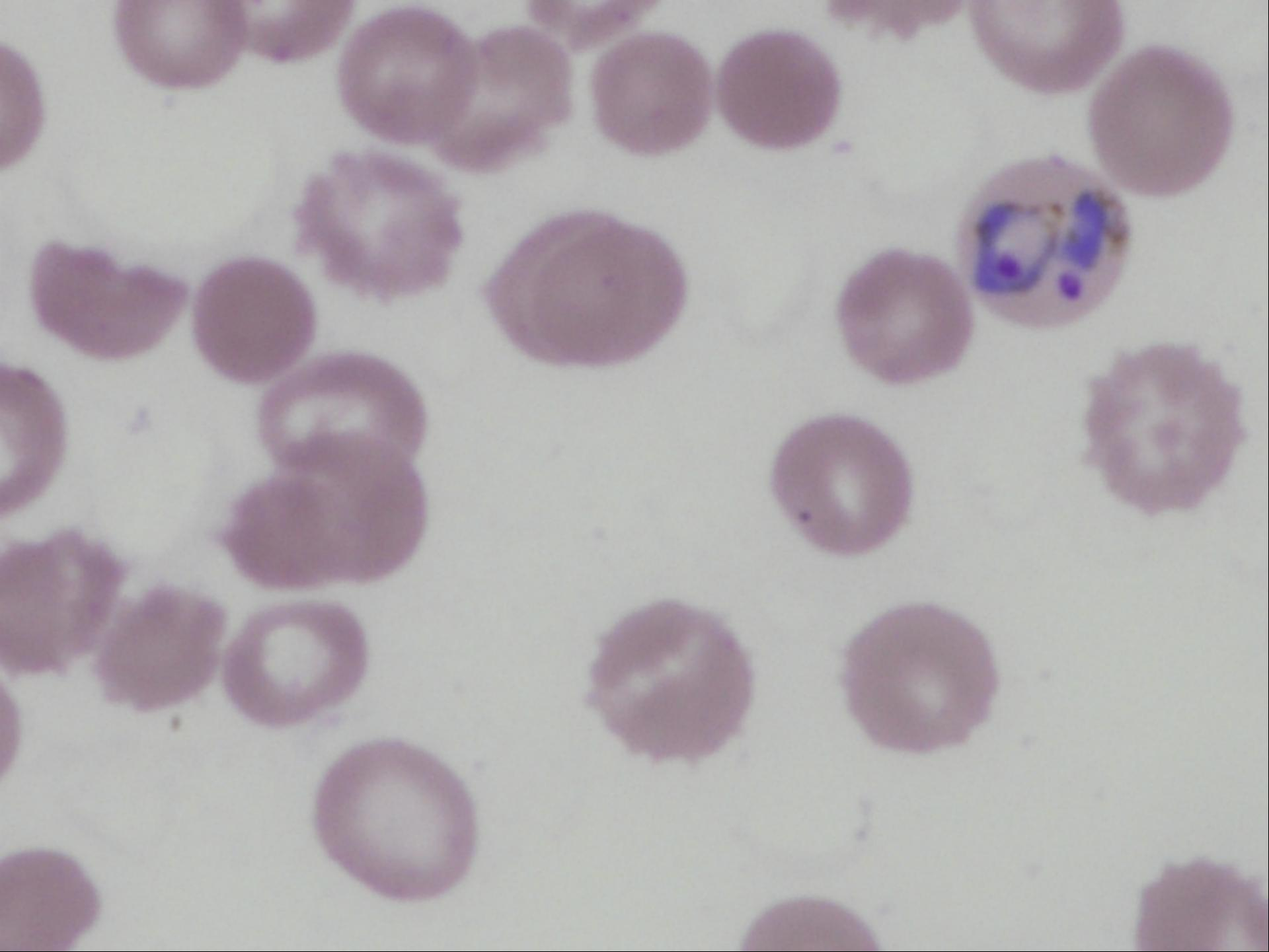Infected: (962, 158, 1132, 330)
Uninfected: (225, 433, 426, 589), (490, 211, 685, 367), (1084, 346, 1244, 516), (586, 602, 751, 763), (313, 741, 476, 899), (297, 147, 465, 294), (841, 604, 997, 754), (1092, 48, 1233, 192), (338, 9, 476, 147), (773, 416, 911, 553), (33, 238, 184, 361), (259, 353, 423, 466), (440, 26, 570, 166), (220, 601, 365, 723), (837, 254, 971, 385), (0, 531, 122, 673), (96, 585, 230, 713), (192, 256, 317, 379), (592, 33, 713, 154), (717, 30, 840, 149), (974, 1, 1119, 91), (1133, 859, 1264, 948), (116, 1, 239, 84), (2, 848, 98, 946), (2, 366, 65, 515), (238, 1, 351, 59)
